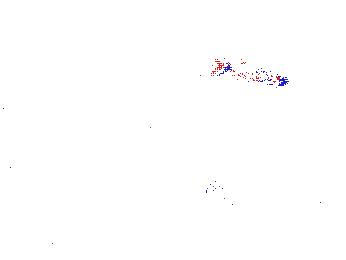X-ray fish: (203, 177, 255, 214), (292, 174, 342, 203), (137, 107, 166, 131)
redtail glassfish: (207, 45, 291, 88)
